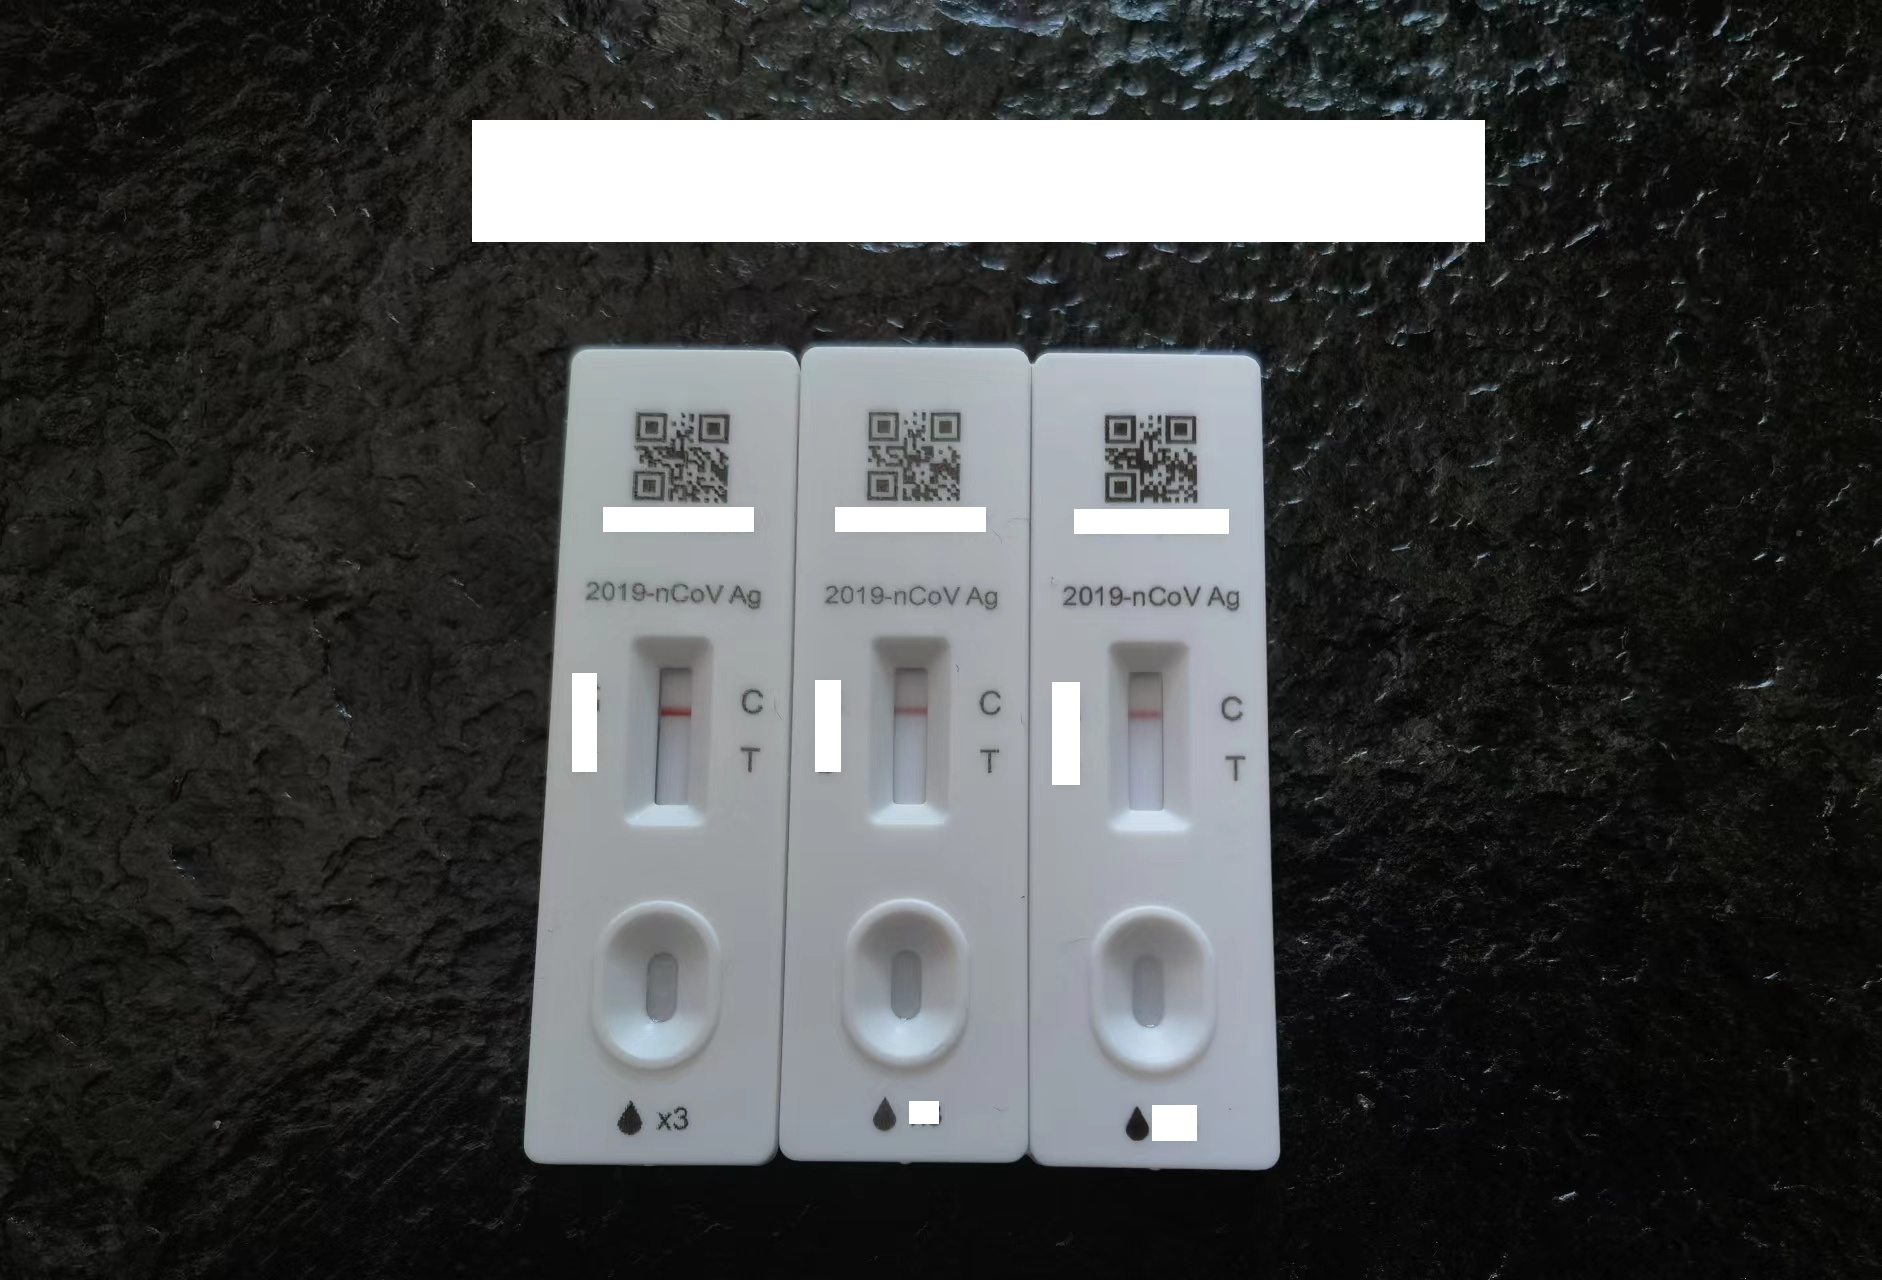negative: (625, 633, 715, 823), (1107, 641, 1195, 826), (870, 633, 952, 826)
